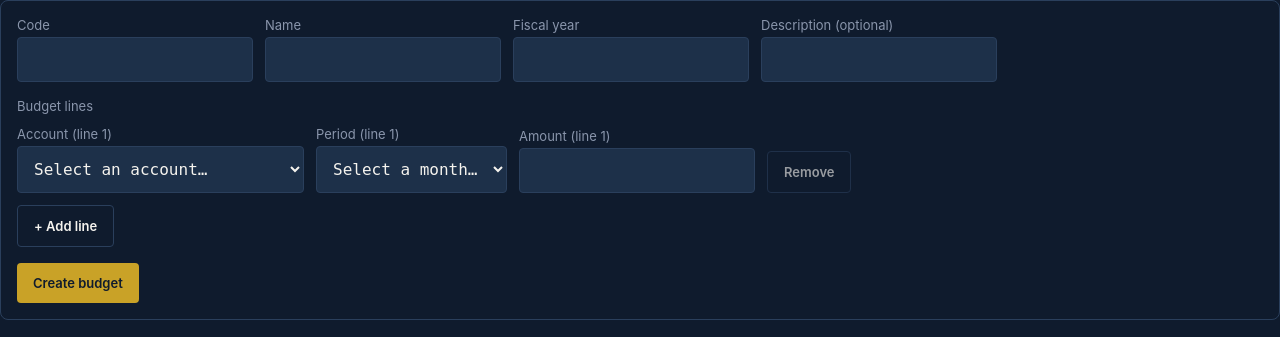
CreateBudgetForm › falls back to a generic error message when the action fails without one
In the field labelled "Code": (135, 60) [17, 37, 253, 82], type "BUD-2026-01"
In the field labelled "Name": (383, 60) [265, 37, 501, 82], type "FY2026 Operating Budget"
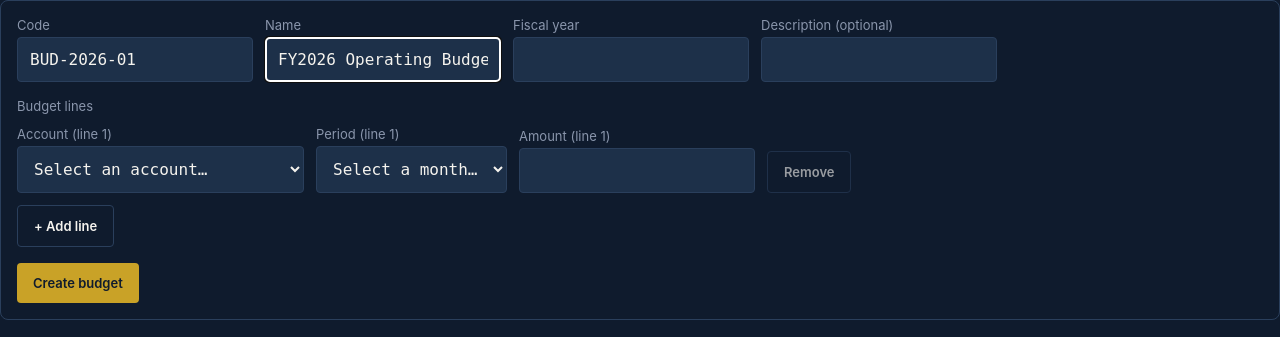
In the number field labelled "Fiscal year": (631, 60) [513, 37, 749, 82], type "2026"
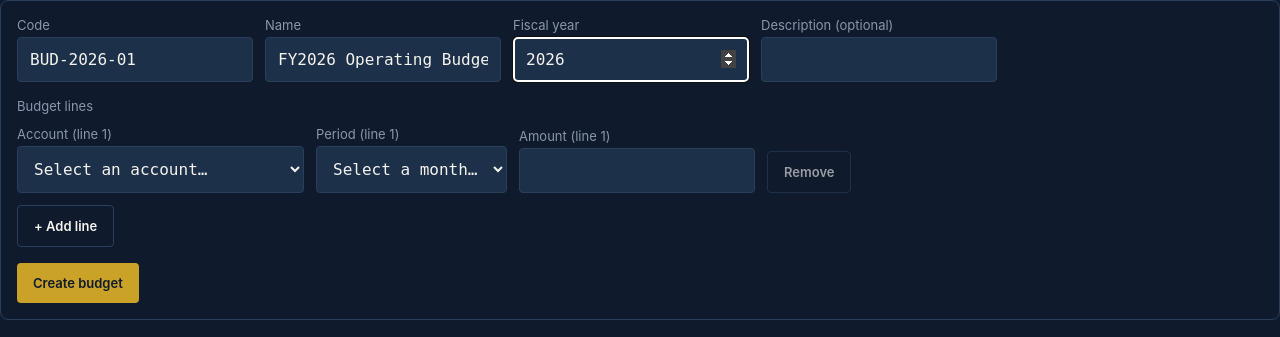
Select "5000 — Construction Costs" in the dropdown labelled "Account (line 1)": (160, 170) [17, 146, 304, 193]
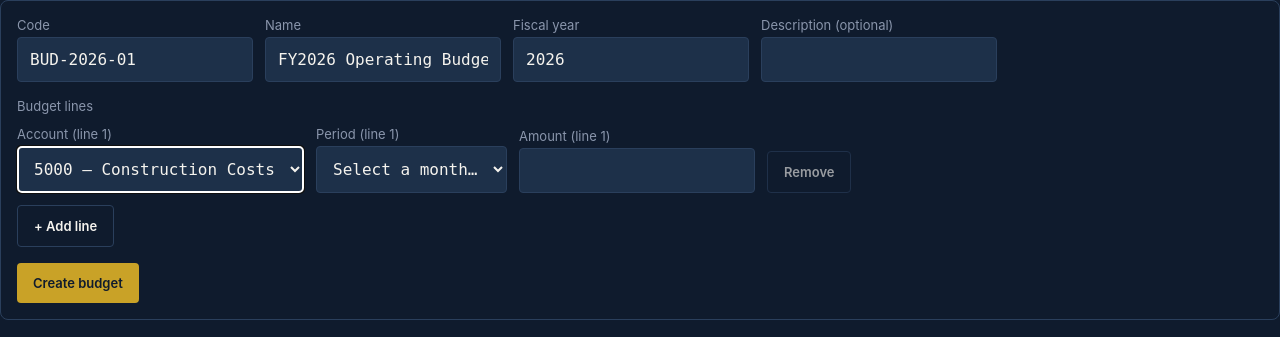
Select "January" in the dropdown labelled "Period (line 1)": (412, 170) [316, 146, 507, 193]
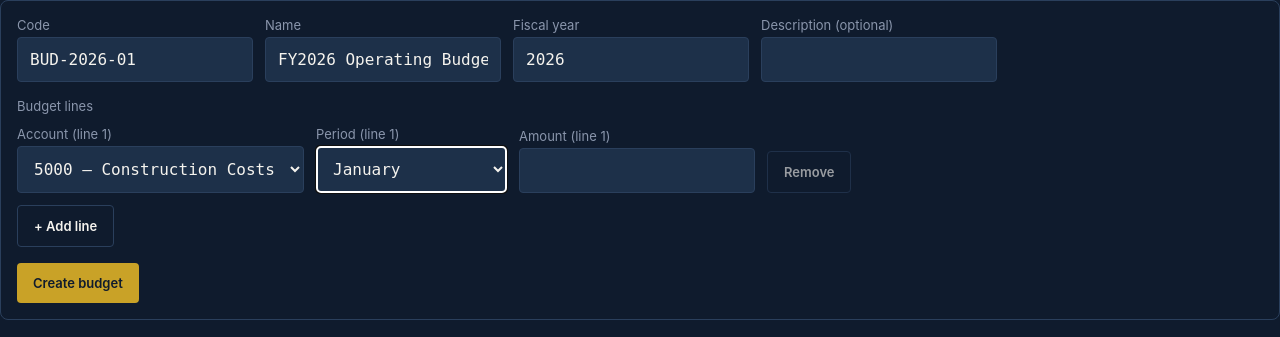
In the number field labelled "Amount (line 1)": (637, 170) [519, 148, 755, 193], type "1000"
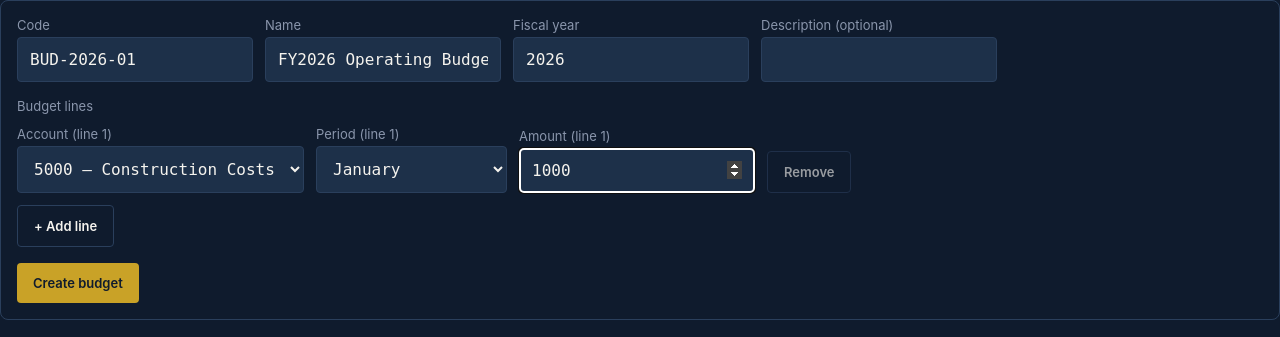
Click the button "Create budget": (78, 283) [17, 263, 139, 303]
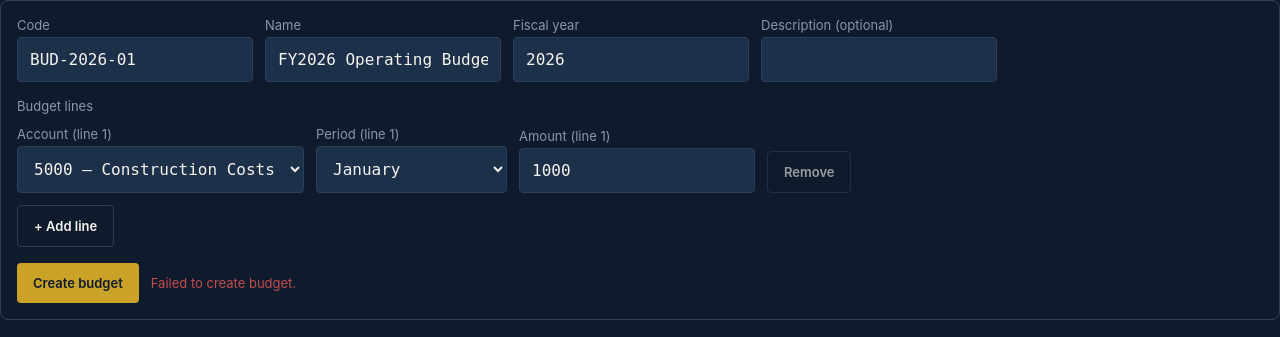
Now the text "Failed to create budget." is shown, box [151, 275, 296, 291]
